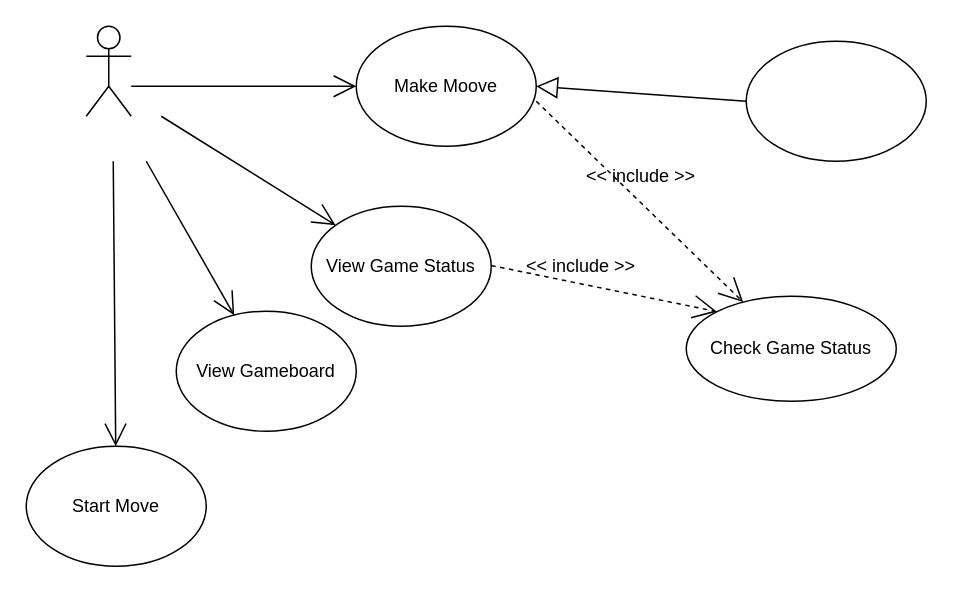
This 953x593 diagram has some shape labels left out. The shapes that lost their labels are listed below. From the top down, each one's centre as x and y in pixels, then its label:
At pixel 108 70: "Game Player".
At pixel 835 100: "Space Occupied".
